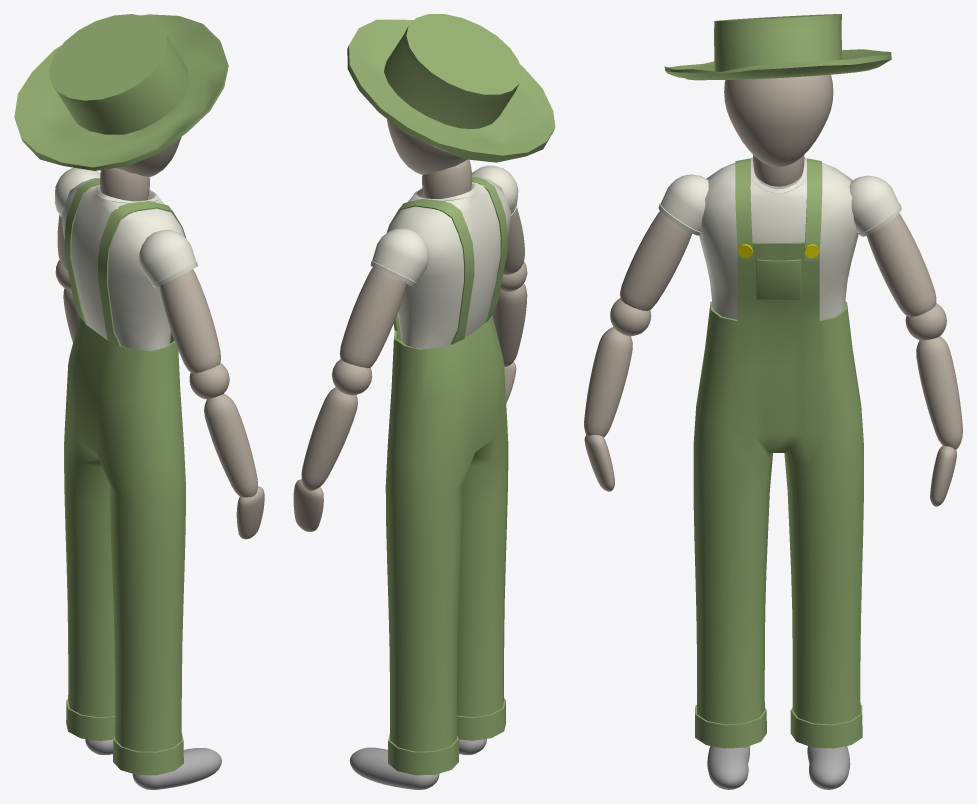
File: gardner w hat.fbx
3 renders of one model, left to right at view 1: azimuth 30°, elevation 25°; view 2: azimuth 150°, elevation 25°; view 3: azimuth 270°, elevation 25°, orthographic. The views are drawn at different scales.
Visible parts, largest first — view 1: gardner:polySurface34, gardner:pCylinder1, pCylinder1, gardner:polySurface36, gardner:polySurface38, gardner:polySurface40, gardner:polySurface37, gardner:polySurface27, gardner:polySurface20, gardner:polySurface41, gardner:polySurface39, gardner:polySurface42 (+2 smaller); view 2: gardner:polySurface34, gardner:pCylinder1, gardner:polySurface36, pCylinder1, gardner:polySurface43, gardner:polySurface45, gardner:polySurface42, gardner:polySurface32, gardner:polySurface40, gardner:polySurface18, gardner:polySurface20, gardner:polySurface46 (+4 smaller); view 3: gardner:polySurface34, gardner:polySurface36, gardner:polySurface18, gardner:pCylinder1, gardner:polySurface43, gardner:polySurface38, gardner:polySurface45, gardner:polySurface40, pCylinder1, gardner:polySurface42, gardner:polySurface37, gardner:polySurface27 (+6 smaller).
Boxes of the visible parts, <box> form: gardner:polySurface34: <box>64,178,185,775</box>; gardner:pCylinder1: <box>49,14,188,134</box>; pCylinder1: <box>14,14,228,170</box>; gardner:polySurface36: <box>61,178,184,350</box>; gardner:polySurface38: <box>159,269,220,373</box>; gardner:polySurface40: <box>204,394,257,497</box>; gardner:polySurface37: <box>139,230,197,288</box>; gardner:polySurface27: <box>132,748,221,789</box>; gardner:polySurface20: <box>100,168,149,201</box>; gardner:polySurface41: <box>236,486,264,539</box>; gardner:polySurface39: <box>189,363,229,399</box>; gardner:polySurface42: <box>54,167,100,216</box>; gardner:polySurface34: <box>385,176,508,775</box>; gardner:pCylinder1: <box>384,14,521,128</box>; gardner:polySurface36: <box>388,175,510,348</box>; pCylinder1: <box>347,19,555,162</box>; gardner:polySurface43: <box>339,267,406,368</box>; gardner:polySurface45: <box>301,387,357,490</box>; gardner:polySurface42: <box>370,228,429,286</box>; gardner:polySurface32: <box>349,747,439,789</box>; gardner:polySurface40: <box>492,283,527,366</box>; gardner:polySurface18: <box>387,119,466,174</box>; gardner:polySurface20: <box>422,159,472,198</box>; gardner:polySurface46: <box>293,479,323,531</box>; gardner:polySurface34: <box>693,158,863,748</box>; gardner:polySurface36: <box>699,157,858,319</box>; gardner:polySurface18: <box>724,74,833,166</box>; gardner:pCylinder1: <box>714,14,842,71</box>; gardner:polySurface43: <box>866,213,936,316</box>; gardner:polySurface38: <box>620,211,691,310</box>; gardner:polySurface45: <box>916,336,962,449</box>; gardner:polySurface40: <box>584,327,632,436</box>; pCylinder1: <box>664,49,891,80</box>; gardner:polySurface42: <box>849,175,901,236</box>; gardner:polySurface37: <box>658,174,708,235</box>; gardner:polySurface27: <box>707,746,749,789</box>.
Size of the model in its own units: 5.43 by 21.55 by 9.72.
